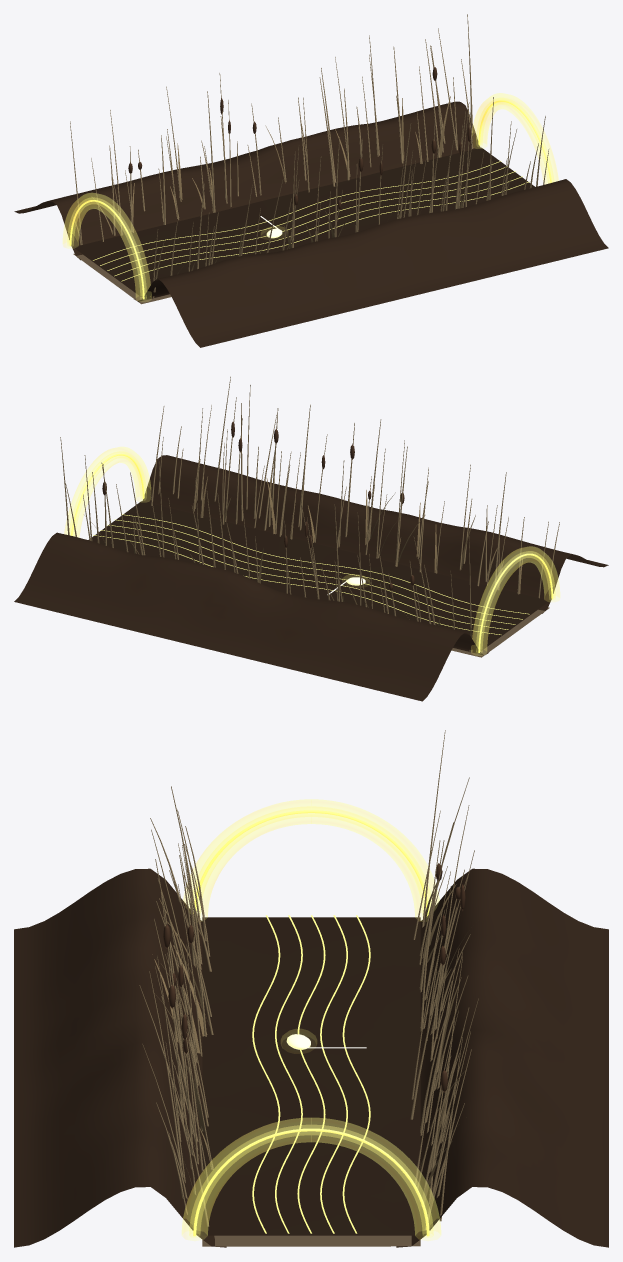
Rendered from stream_segment.glb.
3 renders of one model, top to bottom at view 1: azimuth 30°, elevation 25°; view 2: azimuth 150°, elevation 25°; view 3: azimuth 270°, elevation 25°, orthographic. The views are drawn at different scales.
Visible parts, largest first — view 1: Stream_BankR, Stream_Water, Stream_BankL, Stream_ReedStalks_L, Stream_ReedStalks_R, Stream_Port_in_Arch2, Stream_Port_out_Arch2, Stream_Port_in_Arch1, Stream_Port_out_Arch1, Stream_ReedBlades_L, Stream_Bed; view 2: Stream_BankL, Stream_Water, Stream_BankR, Stream_ReedStalks_R, Stream_ReedStalks_L, Stream_Port_in_Arch2, Stream_Port_out_Arch2, Stream_ReedBlades_R, Stream_Port_in_Arch1, Stream_Port_out_Arch1, Stream_Bed, Stream_StaffLine0 (+1 smaller); view 3: Stream_Water, Stream_BankL, Stream_BankR, Stream_ReedStalks_R, Stream_Port_out_Arch2, Stream_ReedStalks_L, Stream_Port_in_Arch2, Stream_Port_out_Arch1, Stream_Port_in_Arch1, Stream_Bed, Stream_ReedBlades_R, Stream_Port_out_Arch0 (+8 smaller).
Boxes of the visible parts, left/top/right/bottom form: Stream_BankR: left=134, top=179, right=608, bottom=347; Stream_Water: left=73, top=147, right=534, bottom=296; Stream_BankL: left=14, top=101, right=480, bottom=260; Stream_ReedStalks_L: left=70, top=14, right=473, bottom=244; Stream_ReedStalks_R: left=152, top=97, right=548, bottom=298; Stream_Port_in_Arch2: left=63, top=193, right=151, bottom=301; Stream_Port_out_Arch2: left=472, top=93, right=558, bottom=184; Stream_Port_in_Arch1: left=67, top=197, right=146, bottom=299; Stream_Port_out_Arch1: left=476, top=98, right=554, bottom=183; Stream_ReedBlades_L: left=73, top=96, right=450, bottom=244; Stream_Bed: left=73, top=253, right=171, bottom=304; Stream_BankL: left=14, top=532, right=488, bottom=701; Stream_Water: left=88, top=501, right=549, bottom=650; Stream_BankR: left=142, top=455, right=608, bottom=613; Stream_ReedStalks_R: left=151, top=376, right=559, bottom=598; Stream_ReedStalks_L: left=60, top=437, right=471, bottom=652; Stream_Port_in_Arch2: left=471, top=546, right=559, bottom=655; Stream_Port_out_Arch2: left=64, top=447, right=150, bottom=537; Stream_ReedBlades_R: left=193, top=459, right=522, bottom=593; Stream_Port_in_Arch1: left=476, top=551, right=555, bottom=653; Stream_Port_out_Arch1: left=69, top=451, right=146, bottom=536; Stream_Bed: left=451, top=607, right=549, bottom=657; Stream_StaffLine0: left=122, top=514, right=529, bottom=614; Stream_Water: left=202, top=917, right=420, bottom=1235; Stream_BankL: left=396, top=868, right=608, bottom=1247; Stream_BankR: left=14, top=868, right=226, bottom=1247; Stream_ReedStalks_R: left=139, top=786, right=213, bottom=1226; Stream_Port_out_Arch2: left=182, top=1118, right=440, bottom=1240; Stream_ReedStalks_L: left=410, top=730, right=478, bottom=1229; Stream_Port_in_Arch2: left=183, top=799, right=439, bottom=921; Stream_Port_out_Arch1: left=189, top=1125, right=433, bottom=1237; Stream_Port_in_Arch1: left=193, top=806, right=431, bottom=916; Stream_Bed: left=202, top=1235, right=420, bottom=1246; Stream_ReedBlades_R: left=152, top=898, right=213, bottom=1191; Stream_Port_out_Arch0: left=193, top=1128, right=429, bottom=1236.
Size of what is drawn, in the model's own units: 4.14 by 1.3 by 3.16.
